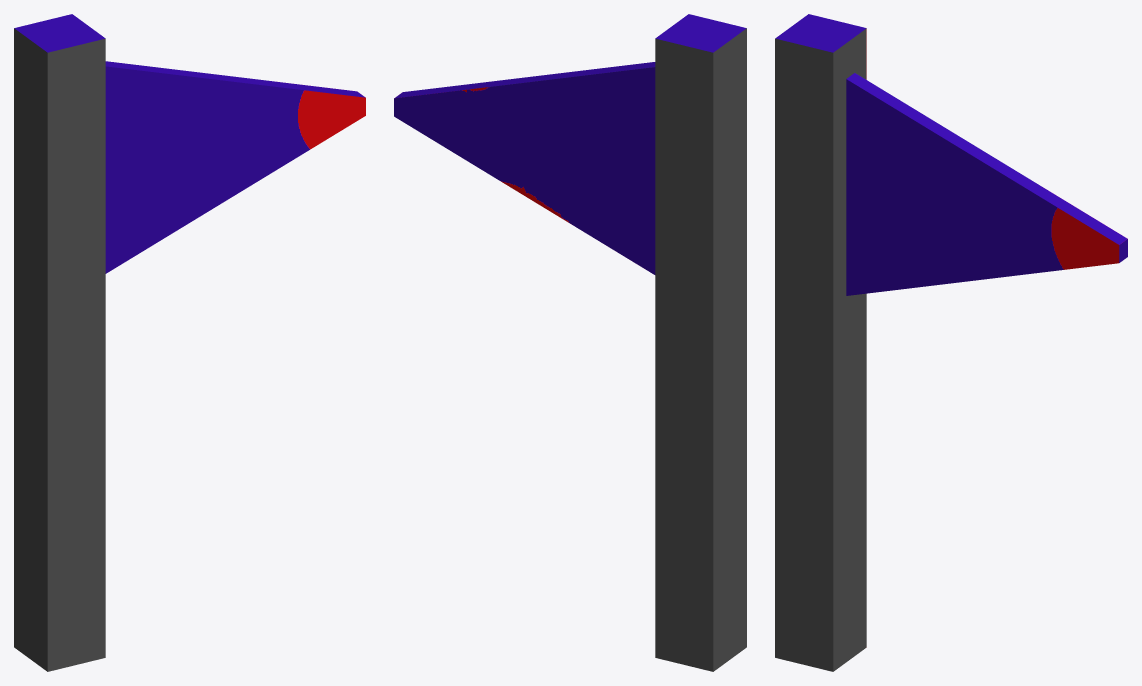
The model's file is Bandera.fbx.
3 views of the same model, side by side, from view 1: azimuth 30°, elevation 25°; view 2: azimuth 150°, elevation 25°; view 3: azimuth 330°, elevation 25° (orthographic).
Visible parts, largest first — view 1: Cube; view 2: Cube; view 3: Cube.
Part boxes in pixels (x1,y1,x2,y2): Cube: [14, 14, 365, 671]; Cube: [394, 14, 746, 671]; Cube: [775, 14, 1127, 671].
Bounding box in the file's own units: 112 × 200 × 19.65.
